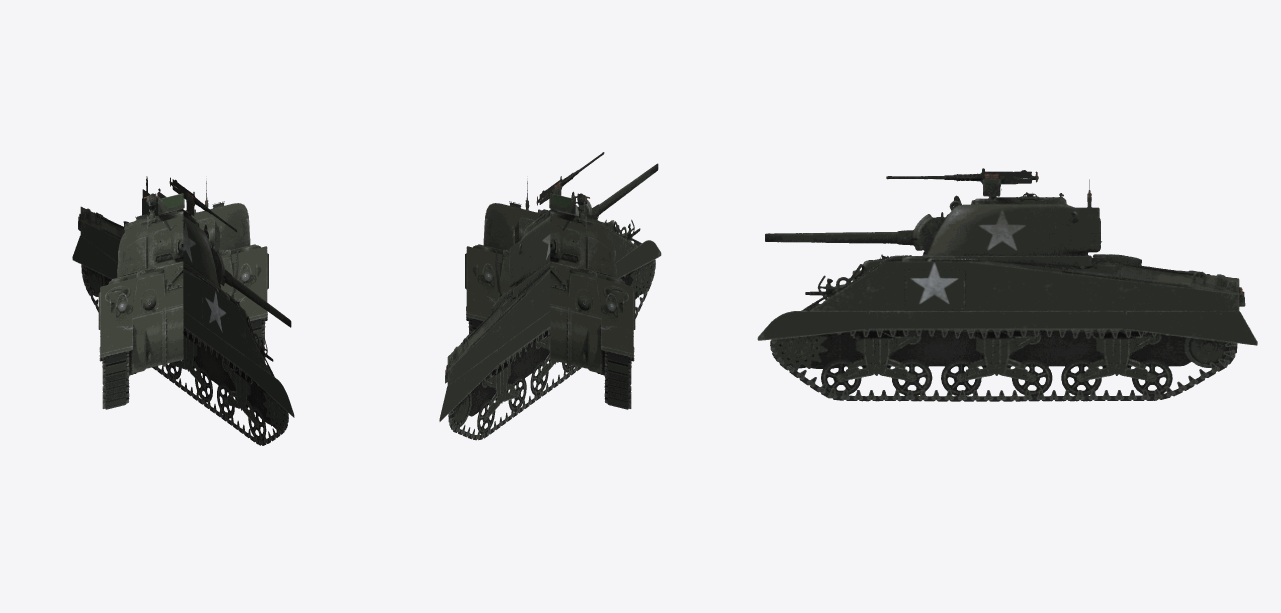
The model's file is sherman_m4_barking_dogo_v3_pbr_bb.glb.
3 renders of one model, left to right at view 1: azimuth 30°, elevation 25°; view 2: azimuth 150°, elevation 25°; view 3: azimuth 270°, elevation 25°, orthographic. The views are drawn at different scales.
Parts seen in each view (by area): view 1: sherman_m4_barking_dogo_v3_pbr_bb; view 2: sherman_m4_barking_dogo_v3_pbr_bb; view 3: sherman_m4_barking_dogo_v3_pbr_bb.
Boxes of the visible parts, x1,y1,x2,y2 form: sherman_m4_barking_dogo_v3_pbr_bb: (72, 176, 294, 445); sherman_m4_barking_dogo_v3_pbr_bb: (439, 152, 661, 440); sherman_m4_barking_dogo_v3_pbr_bb: (757, 168, 1257, 401).
Bounding box in the file's own units: 5.36 × 6.31 × 6.31.
Materials: 1 (1 with a texture image).
